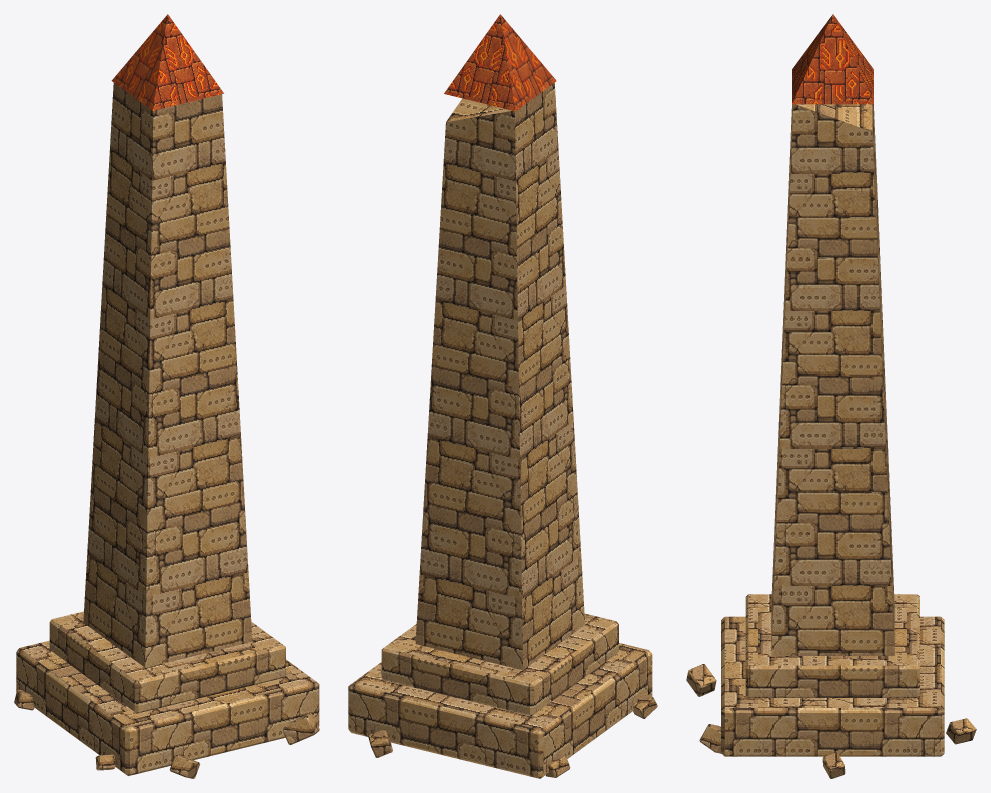
The model's file is ruins_obelisk.glb.
3 renders of one model, left to right at view 1: azimuth 30°, elevation 25°; view 2: azimuth 150°, elevation 25°; view 3: azimuth 270°, elevation 25°, orthographic.
Visible parts, largest first — view 1: Obelisk; view 2: Obelisk; view 3: Obelisk.
Part boxes in pixels (x1,y1,x2,y2): Obelisk: (14,14,319,778); Obelisk: (348,14,657,778); Obelisk: (686,14,976,778).
Size of the model in its own units: 6.41 by 17.4 by 6.5.
2 materials, 2 textured.
